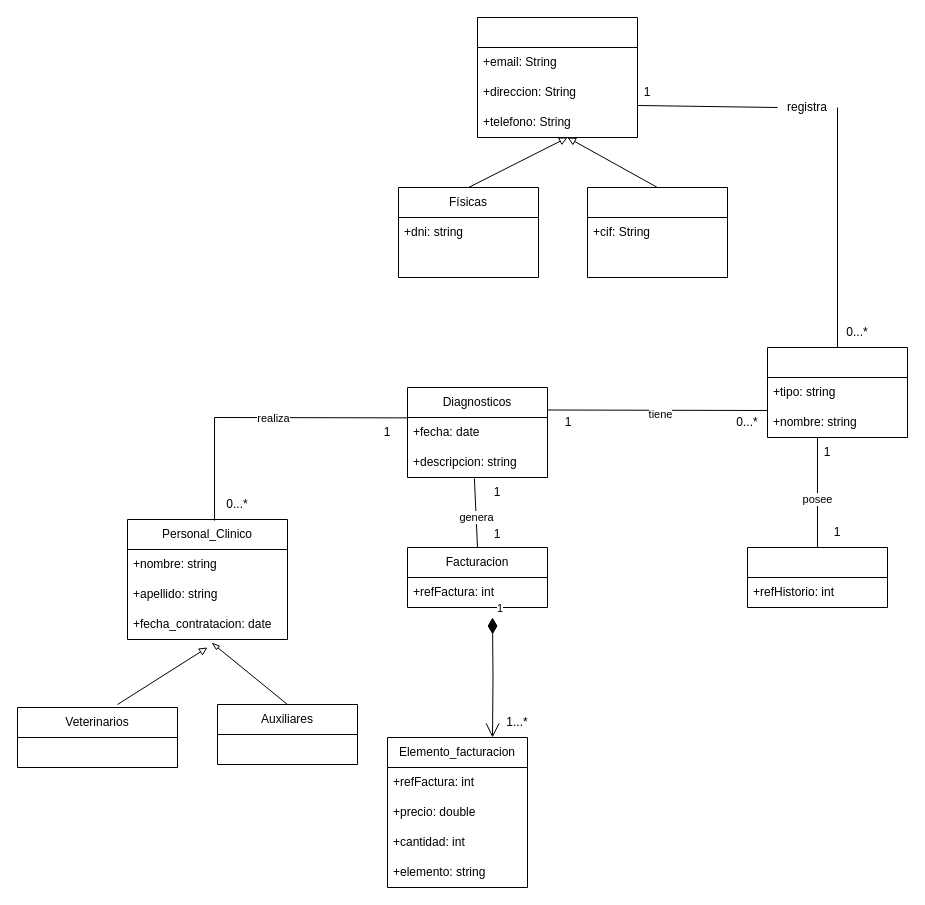
Image size: 925x905. Some labels were removed from this diagram. Each missing label, with the box of its shape:
Animal: (766, 346, 908, 438)
Clientes: (476, 16, 638, 138)
Historial_Clinico: (746, 546, 888, 608)
Juridicas: (586, 186, 728, 278)
